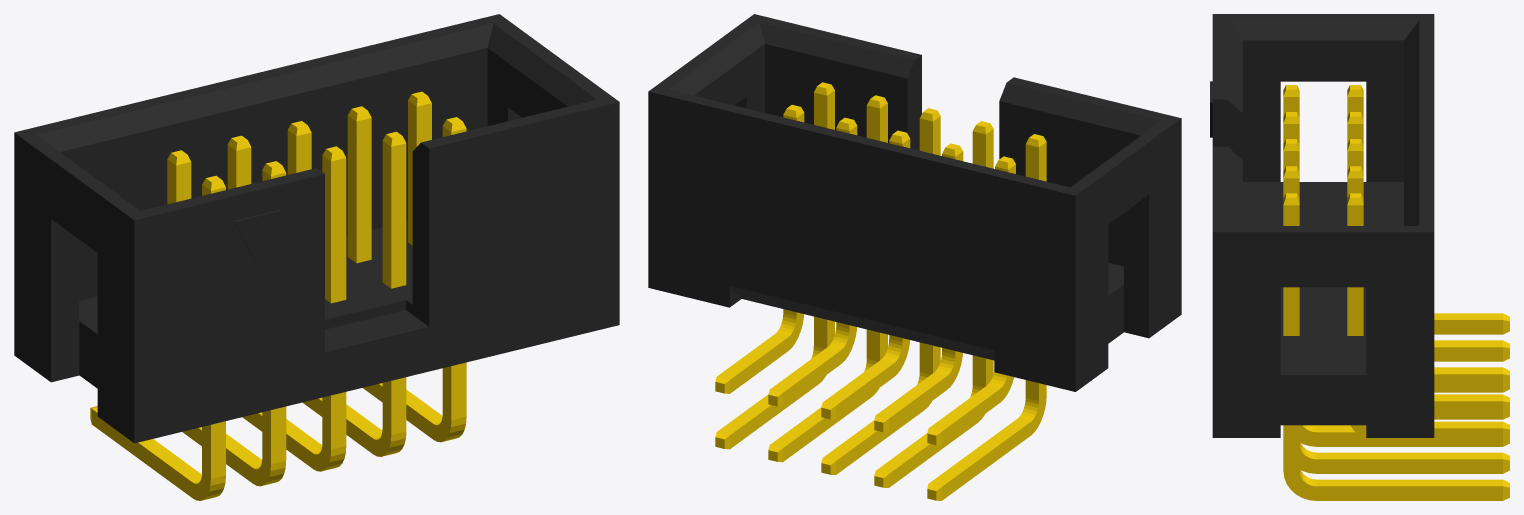
Rendered from DS1013-10R (IDC-10R CONNFLY).obj.
The picture shows the model from 3 angles, left to right: view 1: azimuth 30°, elevation 25°; view 2: azimuth 150°, elevation 25°; view 3: azimuth 270°, elevation 25°; orthographic projection. The views are drawn at different scales.
Parts seen in each view (by area): view 1: DS1013-10R_(IDC-10R_CONNFLY); view 2: DS1013-10R_(IDC-10R_CONNFLY); view 3: DS1013-10R_(IDC-10R_CONNFLY).
Boxes of the visible parts, left/top/right/bottom form: DS1013-10R_(IDC-10R_CONNFLY): left=14, top=14, right=619, bottom=500; DS1013-10R_(IDC-10R_CONNFLY): left=648, top=14, right=1181, bottom=500; DS1013-10R_(IDC-10R_CONNFLY): left=1210, top=14, right=1509, bottom=500.
Bounding box in the file's own units: 0.0296 × 0.0202 × 0.0172.
